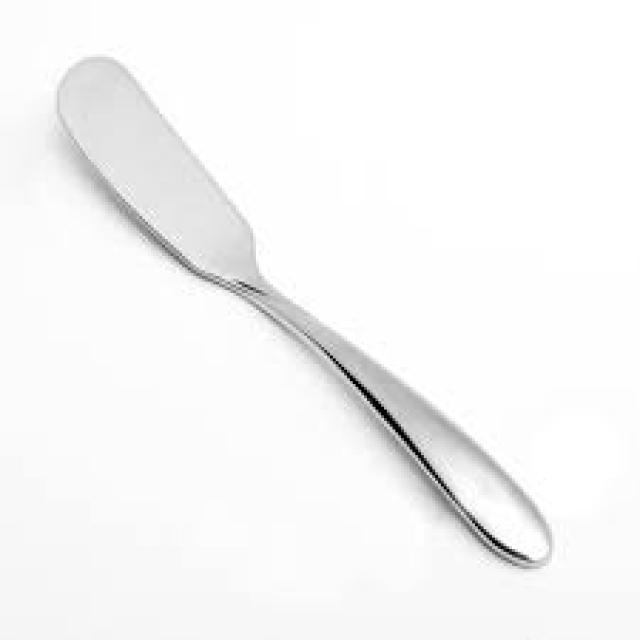Knife: (60, 57, 546, 566)
